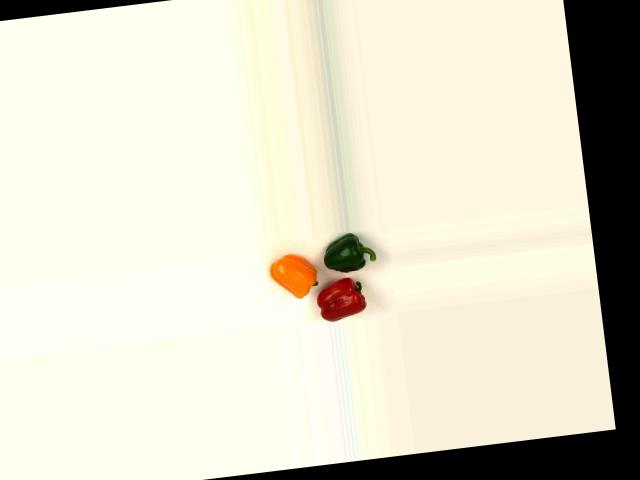bell_pepper: (320, 229, 379, 277)
